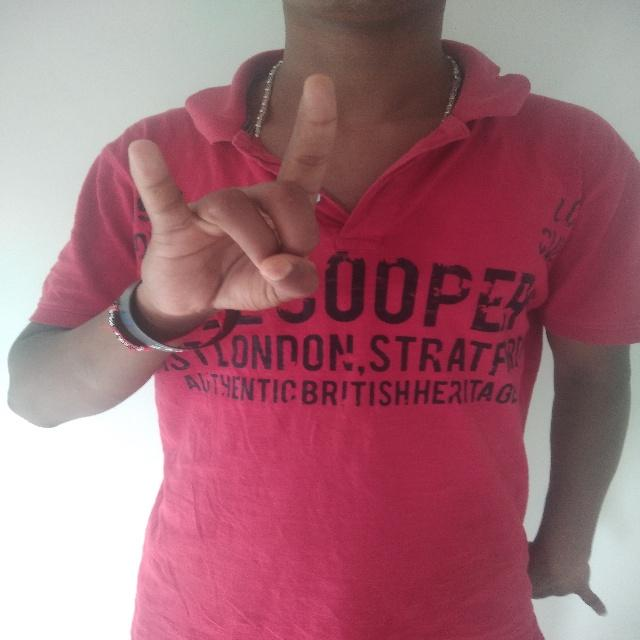Corna: (108, 67, 353, 357)
